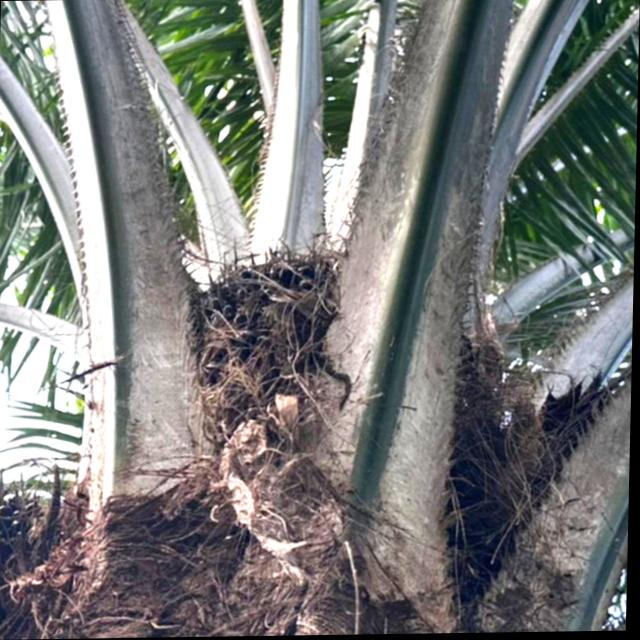unripe: (165, 238, 358, 485)
